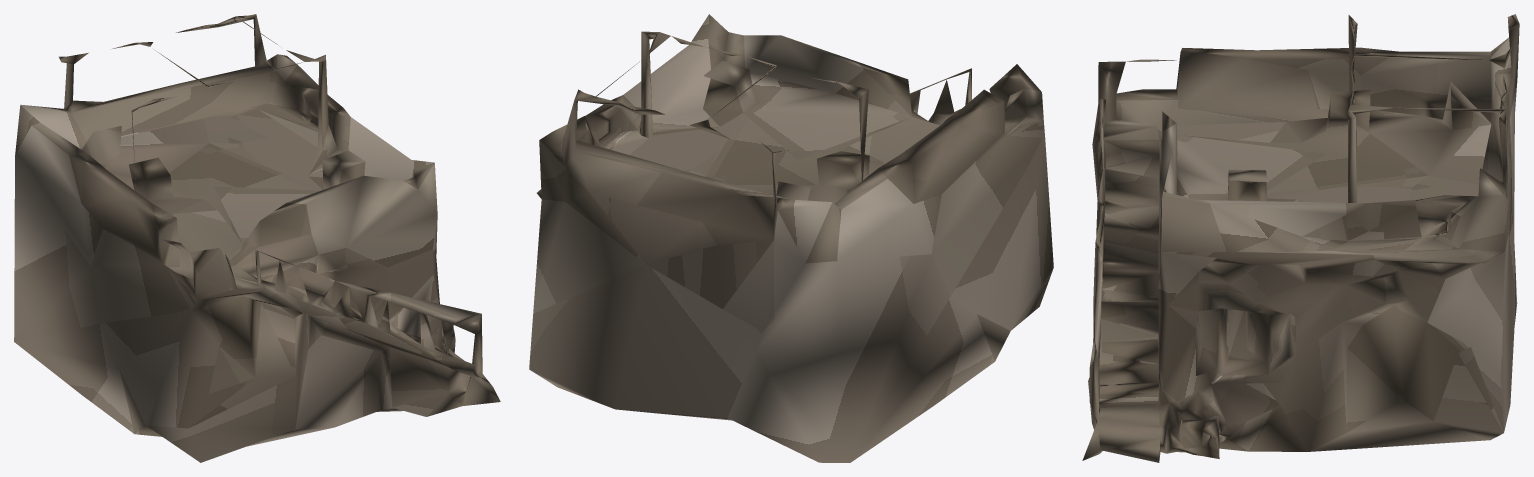
The model's file is house_generic_c_lo.glb.
3 renders of one model, left to right at view 1: azimuth 30°, elevation 25°; view 2: azimuth 150°, elevation 25°; view 3: azimuth 270°, elevation 25°, orthographic. The views are drawn at different scales.
Parts seen in each view (by area): view 1: tripo_node_74c7015e-0876-4b5f-9c3c-cbb3f68648d4; view 2: tripo_node_74c7015e-0876-4b5f-9c3c-cbb3f68648d4; view 3: tripo_node_74c7015e-0876-4b5f-9c3c-cbb3f68648d4.
Boxes of the visible parts, left/top/right/bottom form: tripo_node_74c7015e-0876-4b5f-9c3c-cbb3f68648d4: left=14, top=14, right=500, bottom=462; tripo_node_74c7015e-0876-4b5f-9c3c-cbb3f68648d4: left=529, top=14, right=1053, bottom=462; tripo_node_74c7015e-0876-4b5f-9c3c-cbb3f68648d4: left=1082, top=14, right=1519, bottom=462.
Bounding box in the file's own units: 0.9185 × 0.7776 × 0.9784.
1 material, 1 textured.
